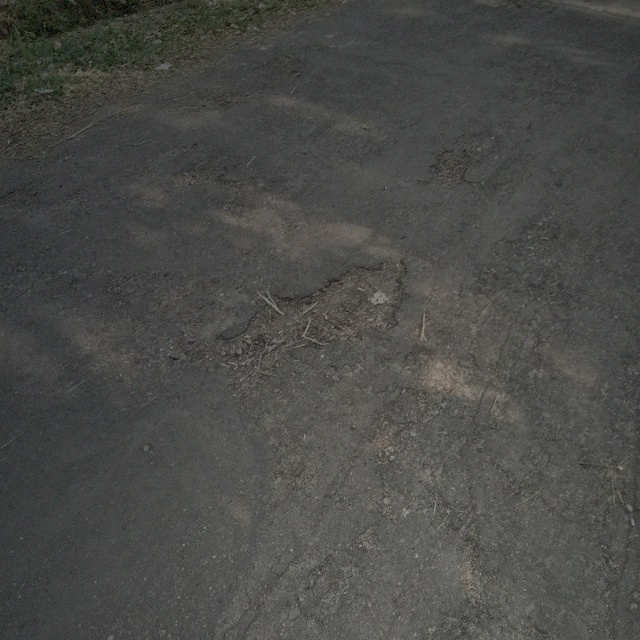pothole: (200, 251, 409, 369), (425, 130, 497, 187), (0, 185, 42, 208)
